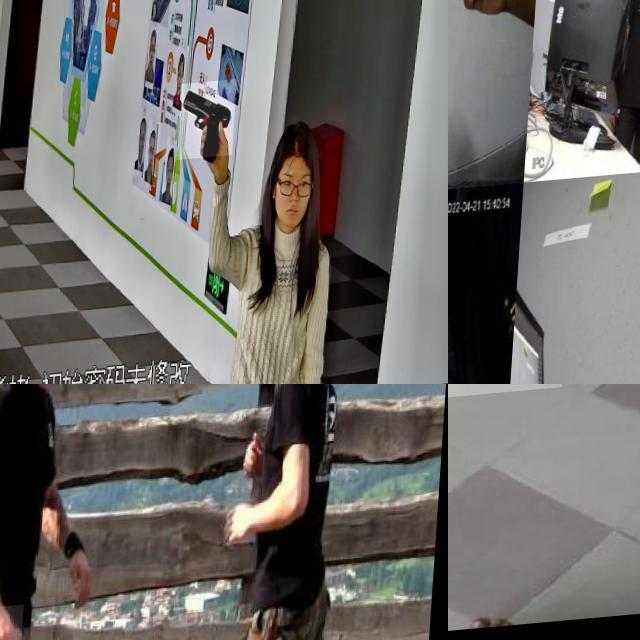-: (448, 384, 580, 491), (448, 199, 482, 384), (448, 0, 522, 64), (0, 608, 37, 640)
gun-knife-thesis - v11 Yolov5 augmented: (182, 86, 242, 166)
